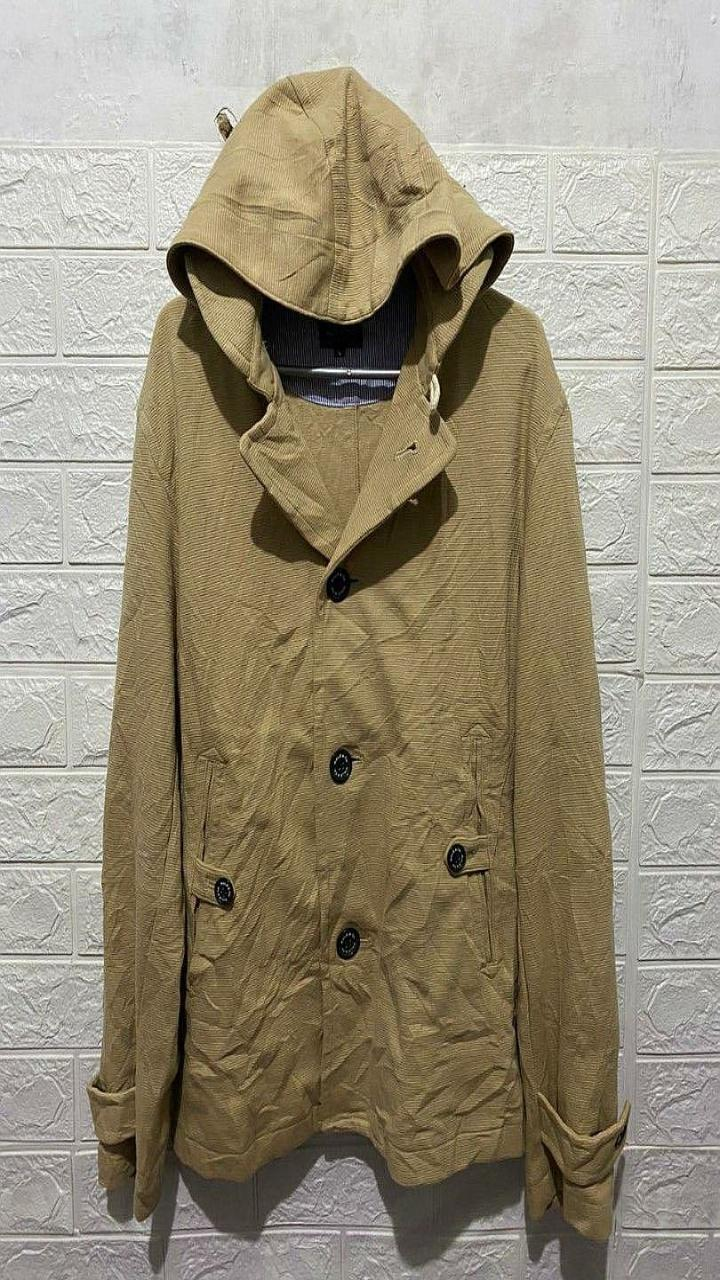Coat: (87, 66, 629, 1239)
